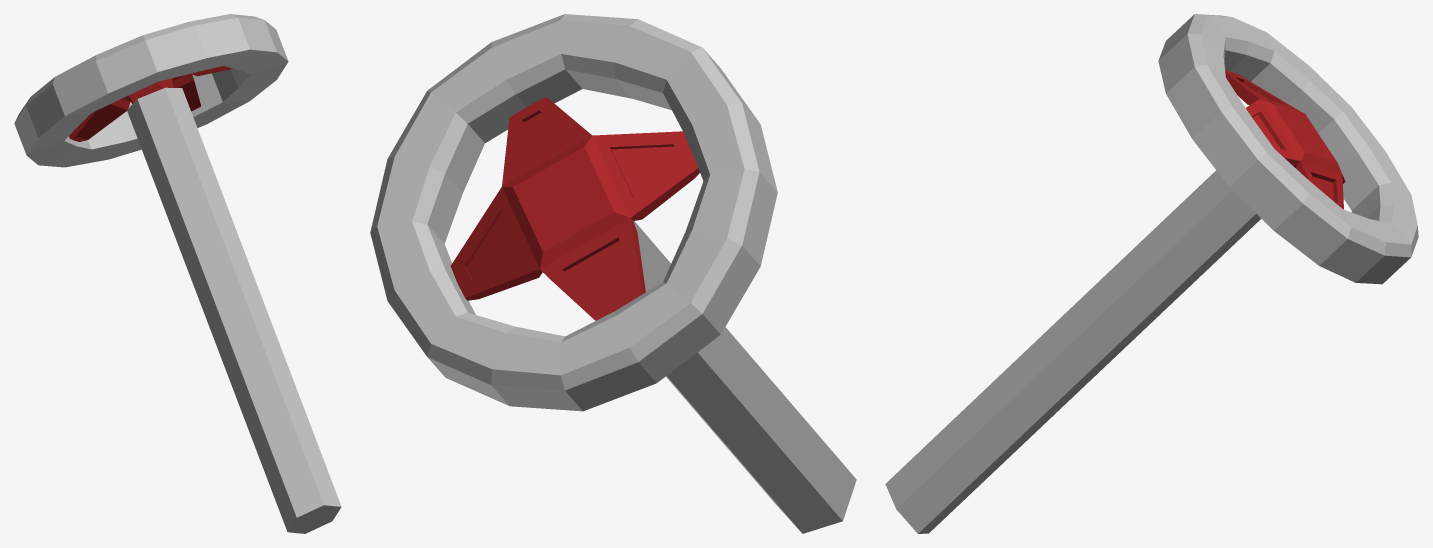
The model's file is SteeringWheel4.fbx.
The picture shows the model from 3 angles, left to right: view 1: azimuth 30°, elevation 25°; view 2: azimuth 150°, elevation 25°; view 3: azimuth 270°, elevation 25°; orthographic projection. The views are drawn at different scales.
Visible parts, largest first — view 1: SteeringWheel4; view 2: SteeringWheel4; view 3: SteeringWheel4.
Boxes of the visible parts, x1,y1,x2,y2 form: SteeringWheel4: (14,14,341,533); SteeringWheel4: (370,14,856,533); SteeringWheel4: (885,14,1418,533).
Bounding box in the file's own units: 200 × 342 × 331.
